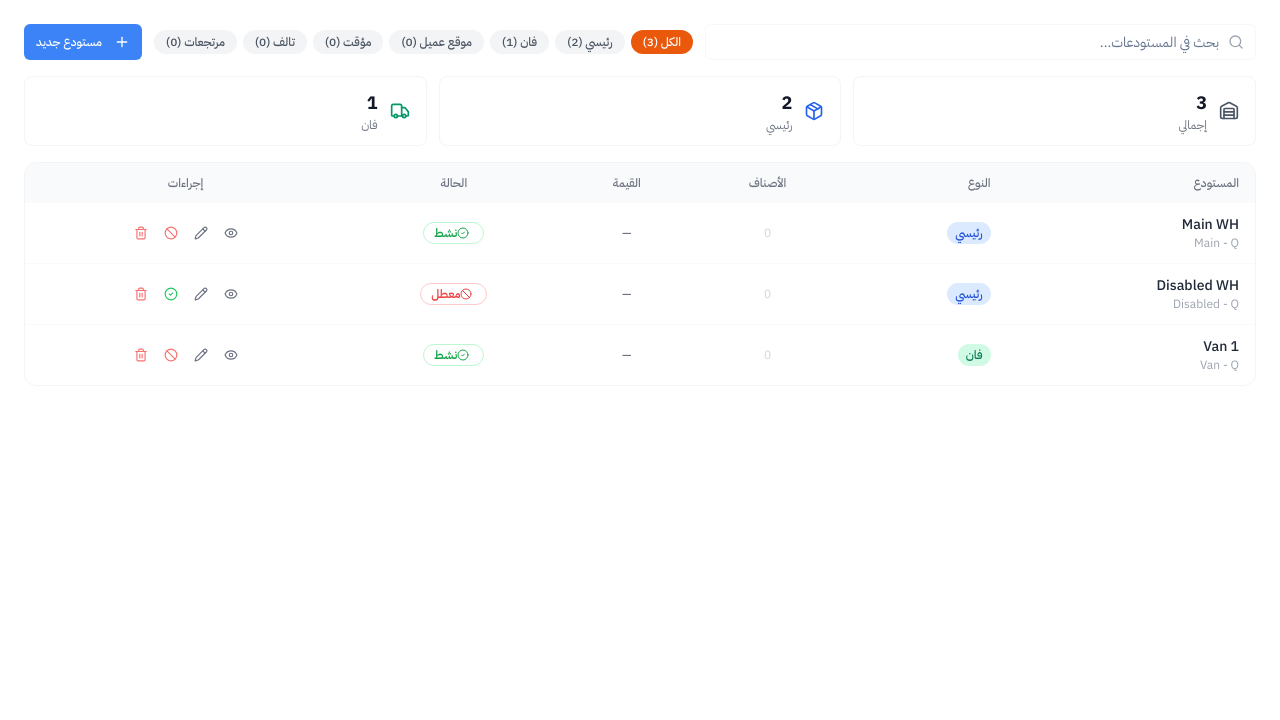
Test: Arabic translations (isRTL=true) › shows Arabic form labels in create dialog
Click the button "مستودع جديد".
click(83, 42)  # box [24, 24, 142, 60]
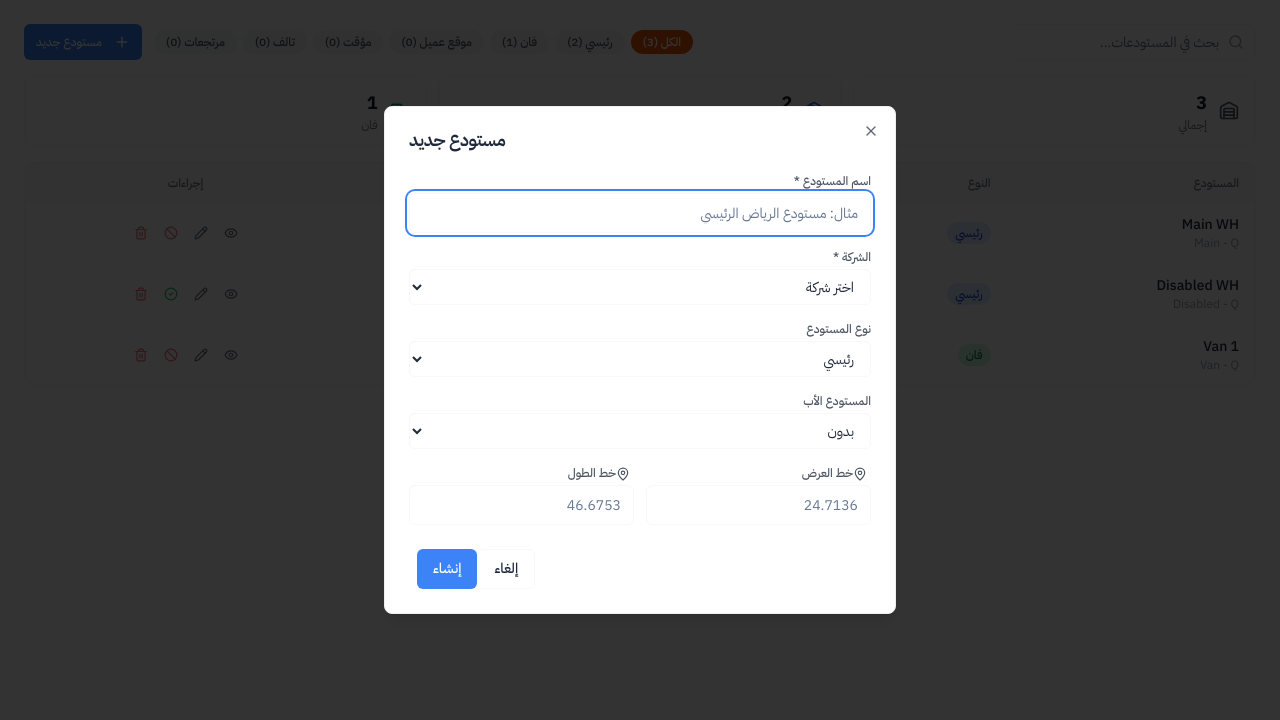
Result: the text "اسم المستودع *" is shown at [794, 172, 871, 190]
Result: the text "نوع المستودع" is shown at [806, 320, 871, 338]
